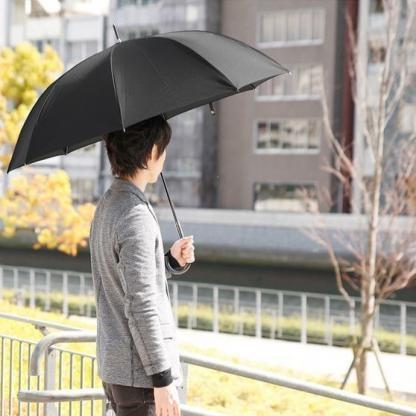Umbrella: (8, 18, 281, 188)
